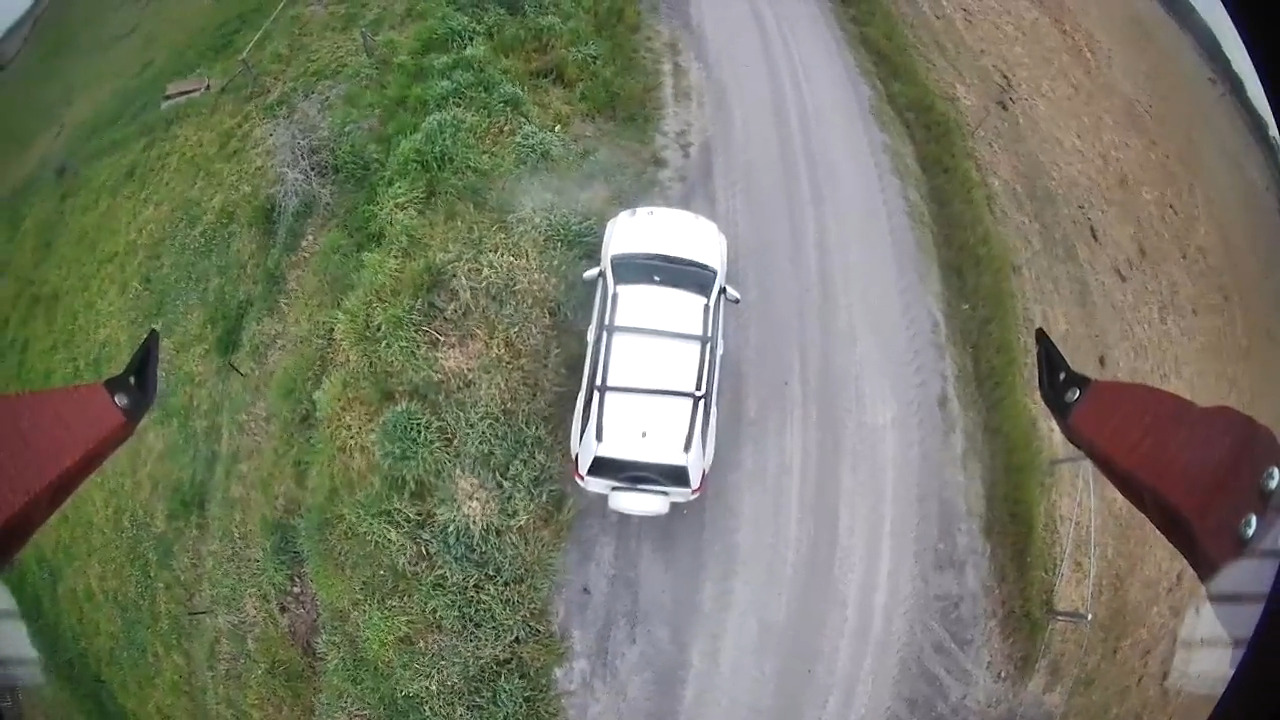Car: (570, 206, 740, 516)
